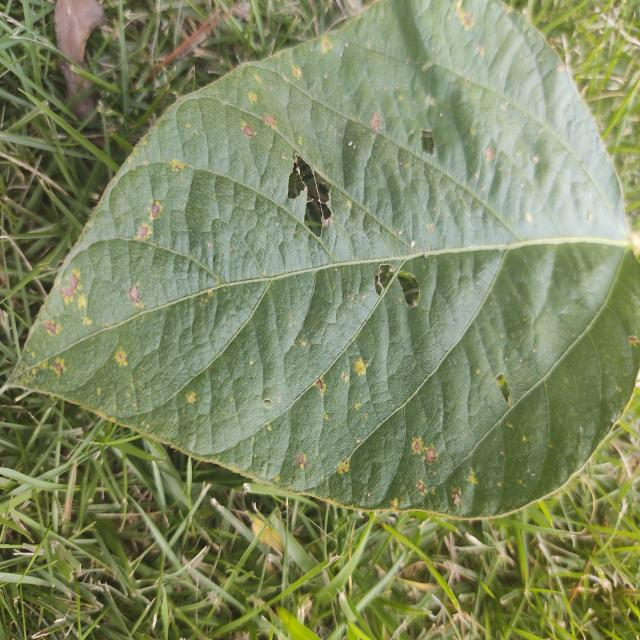Soybean: (10, 0, 640, 521)
downey_mildew: (124, 256, 287, 431), (434, 2, 548, 117), (544, 104, 631, 238), (411, 145, 516, 255), (580, 257, 640, 446), (184, 170, 281, 283), (539, 312, 606, 472), (481, 247, 561, 379), (438, 380, 523, 503), (18, 298, 120, 397), (284, 67, 356, 204), (472, 75, 554, 189), (346, 41, 423, 158), (315, 2, 409, 97), (374, 133, 445, 257), (214, 100, 300, 201), (394, 345, 454, 476), (122, 196, 184, 319), (344, 399, 409, 501), (601, 55, 640, 154)
